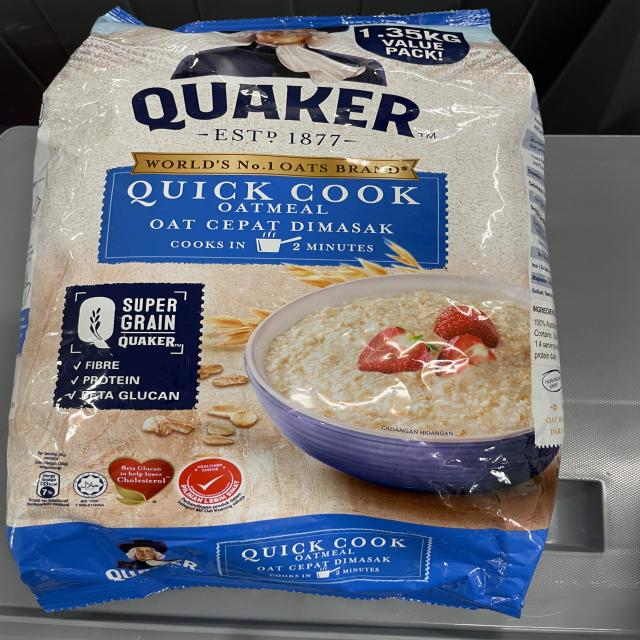object_name: (49, 24, 527, 611)
